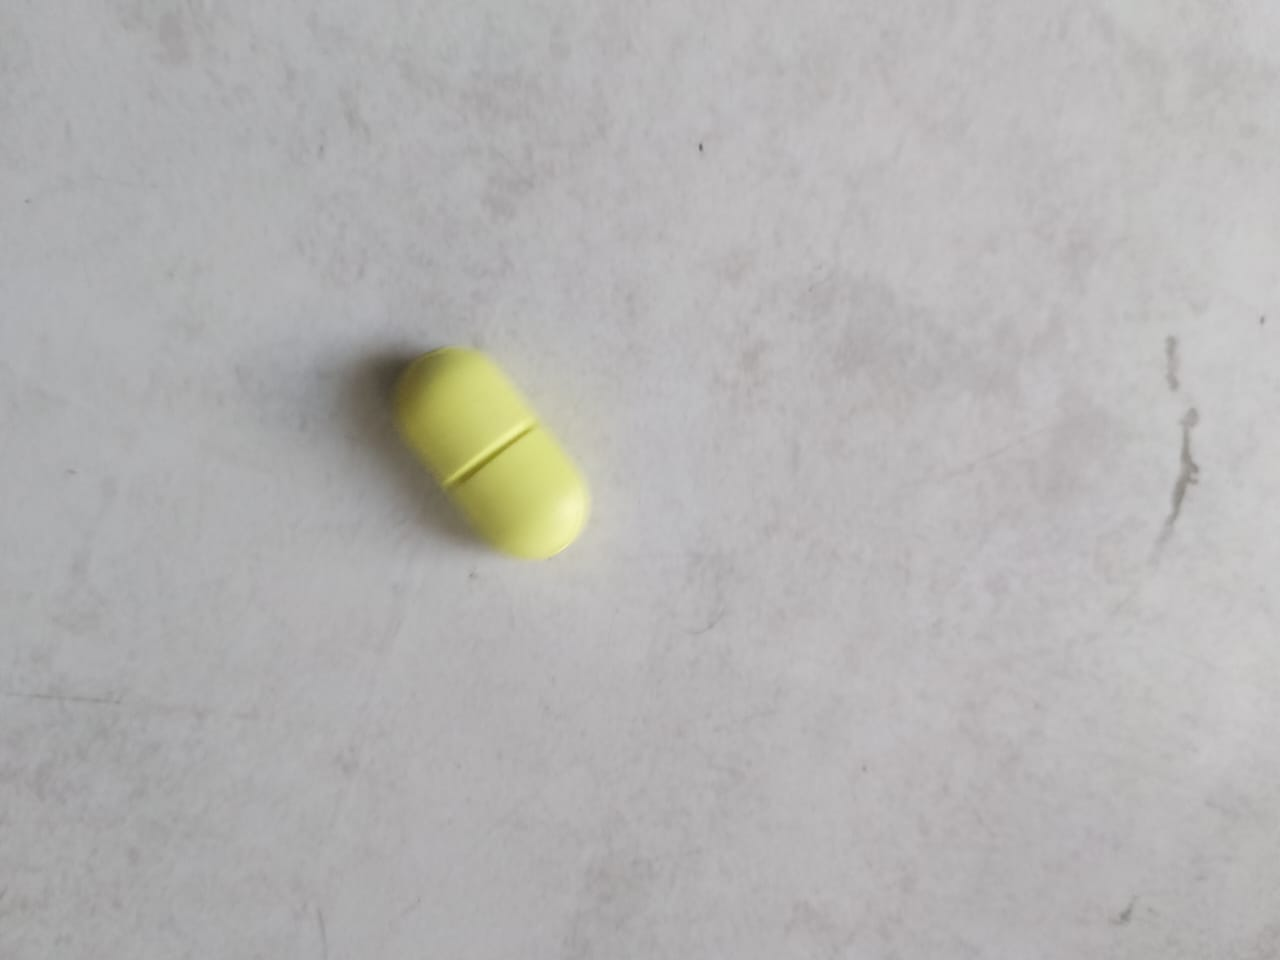Norflox TZ: (387, 320, 598, 558)
